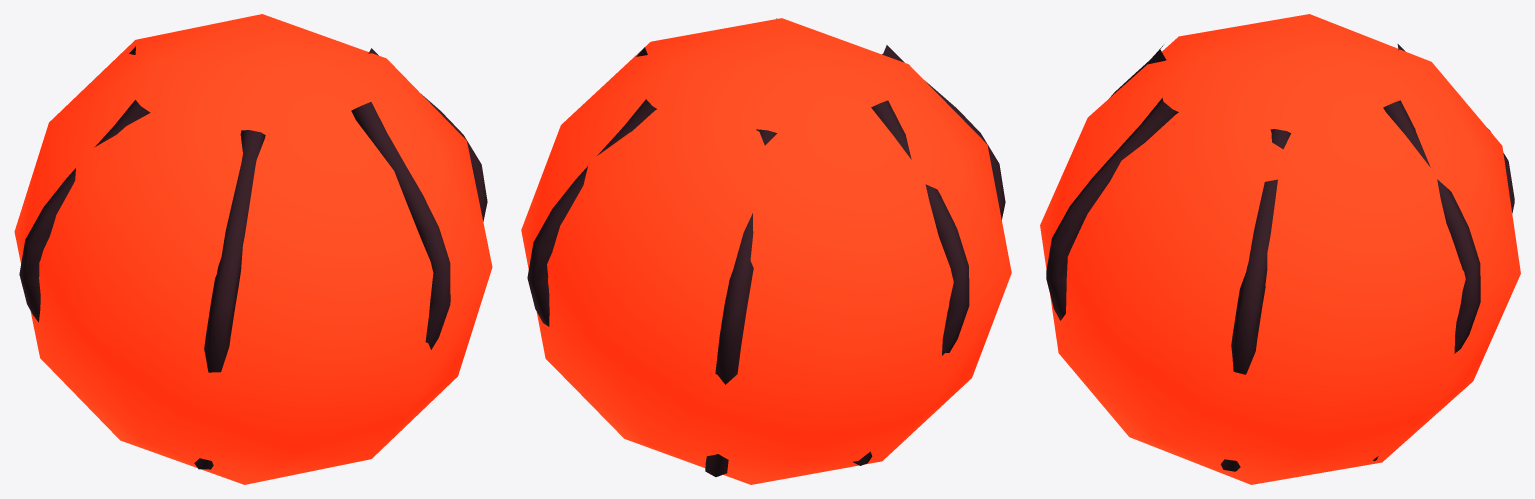
File: mia-gwimun_core.glb
3 renders of one model, left to right at view 1: azimuth 30°, elevation 25°; view 2: azimuth 150°, elevation 25°; view 3: azimuth 270°, elevation 25°, orthographic. The views are drawn at different scales.
Parts seen in each view (by area): view 1: Body_core-gem, Body_dark; view 2: Body_core-gem, Body_dark; view 3: Body_core-gem, Body_dark.
Part boxes in pixels (<box>): Body_core-gem: <box>14,14,492,484</box>; Body_dark: <box>19,46,487,469</box>; Body_core-gem: <box>521,18,1011,484</box>; Body_dark: <box>527,18,1005,476</box>; Body_core-gem: <box>1040,14,1520,484</box>; Body_dark: <box>1046,44,1514,471</box>.
Bounding box in the file's own units: 0.5153 × 0.4553 × 0.4982.
